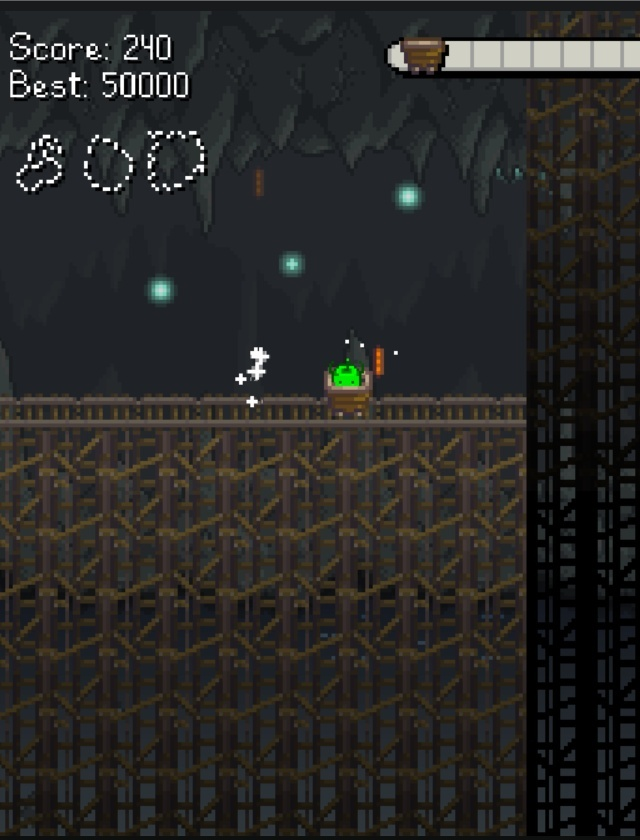coins: (373, 347, 384, 377)
minecart: (325, 371, 370, 414)
tracks: (0, 388, 314, 429), (381, 389, 530, 430)
